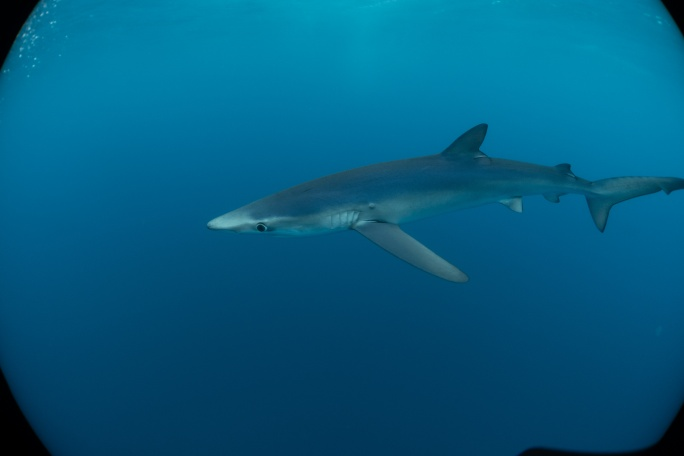Azul: (164, 97, 684, 303)
